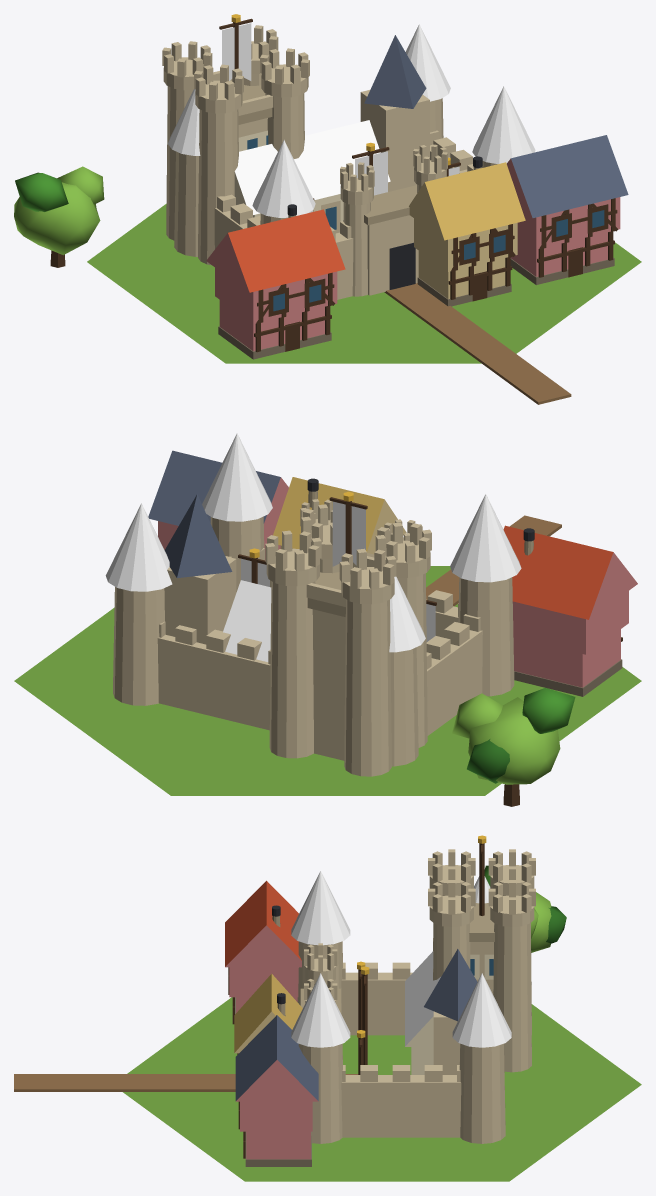
The model's file is capital_1_1.fbx.
3 views of the same model, one above another, from view 1: azimuth 30°, elevation 25°; view 2: azimuth 150°, elevation 25°; view 3: azimuth 270°, elevation 25° (orthographic). The views are drawn at different scales.
Parts seen in each view (by area): view 1: capital_1_1; view 2: capital_1_1; view 3: capital_1_1.
Part boxes in pixels (x1,y1,x2,y2): capital_1_1: (14,14,641,404); capital_1_1: (14,433,641,806); capital_1_1: (14,835,641,1181).
Size of the model in its own units: 212 by 93.2 by 249.
